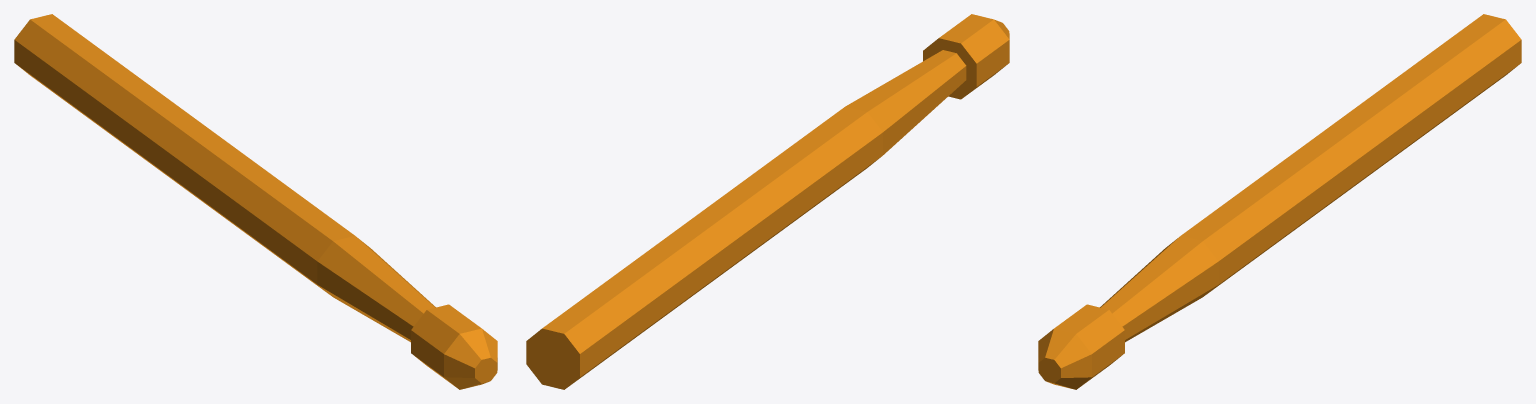
Rendered from Bullet.fbx.
3 views of the same model, side by side, from view 1: azimuth 30°, elevation 25°; view 2: azimuth 150°, elevation 25°; view 3: azimuth 330°, elevation 25° (orthographic).
Visible parts, largest first — view 1: Bullet Warped, Bullet; view 2: Bullet Warped, Bullet; view 3: Bullet Warped, Bullet.
Boxes of the visible parts, x1,y1,x2,y2 form: Bullet Warped: (14,14,497,383); Bullet: (411,304,497,389); Bullet Warped: (526,50,966,389); Bullet: (923,14,1009,99); Bullet Warped: (1038,14,1521,383); Bullet: (1038,304,1124,389).
Size of the model in its own units: 0.00959 by 0.00959 by 0.138.
